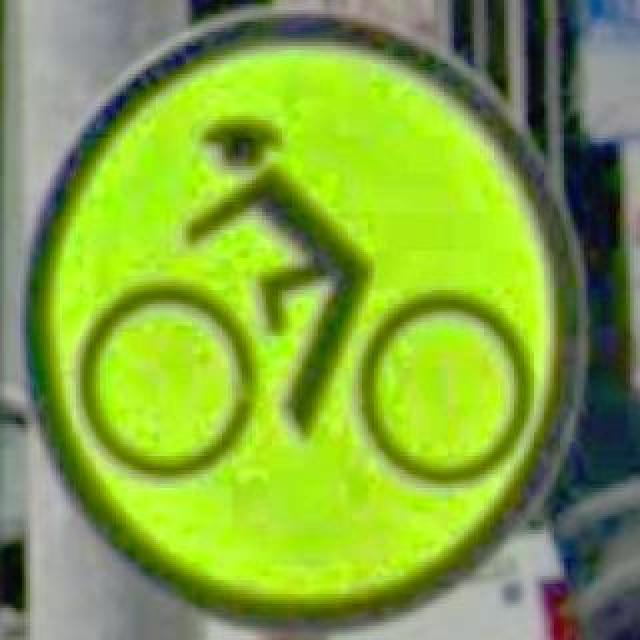bike lane: (24, 8, 580, 630)
